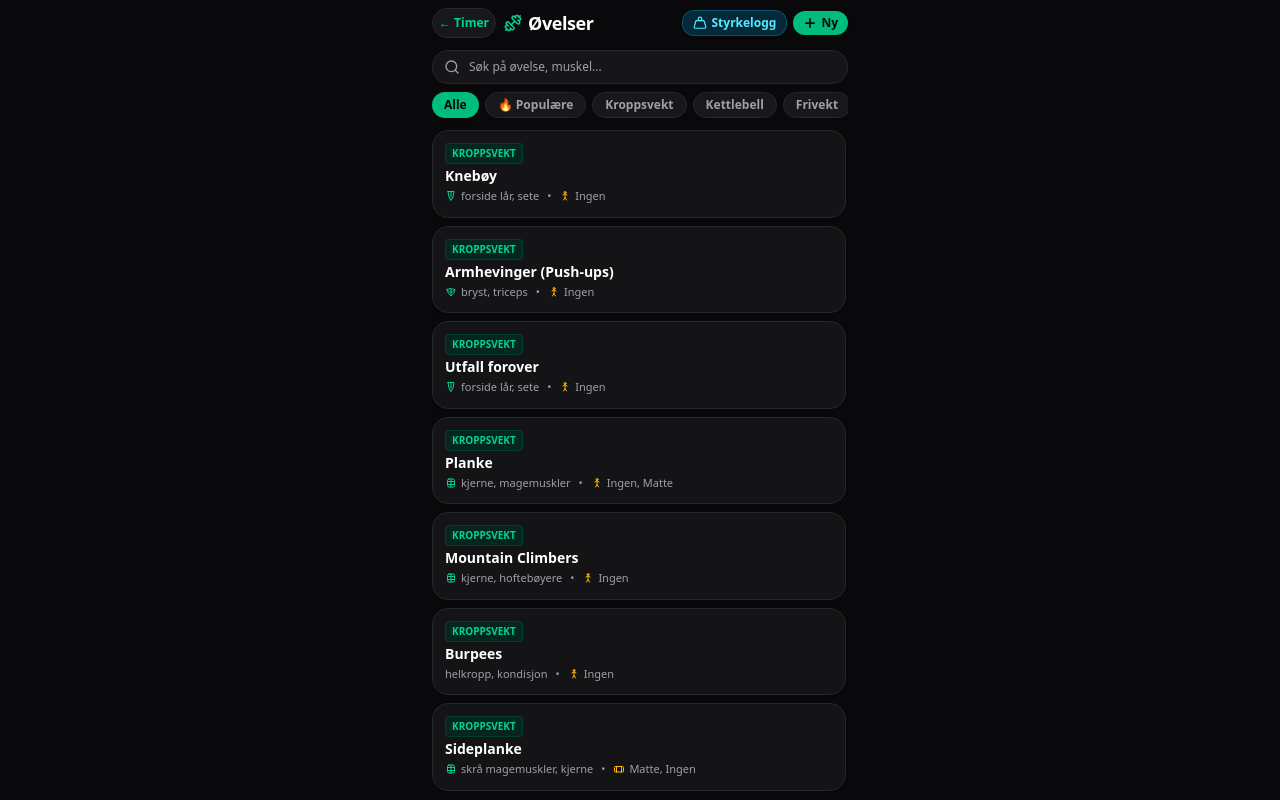
ExerciseLibraryView — tastaturtilgjengelighet (B2) › kan fokuseres og aktiveres, slik at detaljvisningen åpnes
Click the button with aria-label "åpne øvelsen".
click(484, 154)  # box [433,131,845,216]
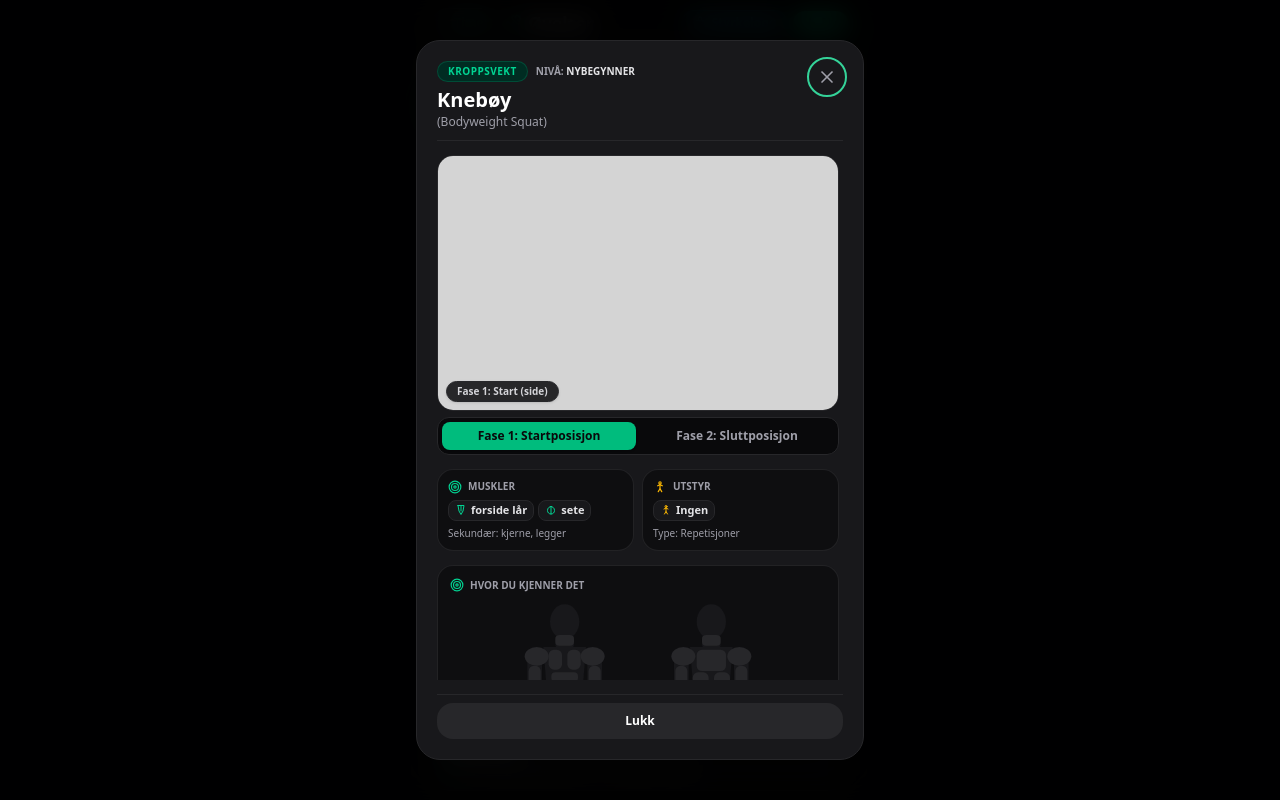
Now the dialog is shown, box [416,40,864,760]
